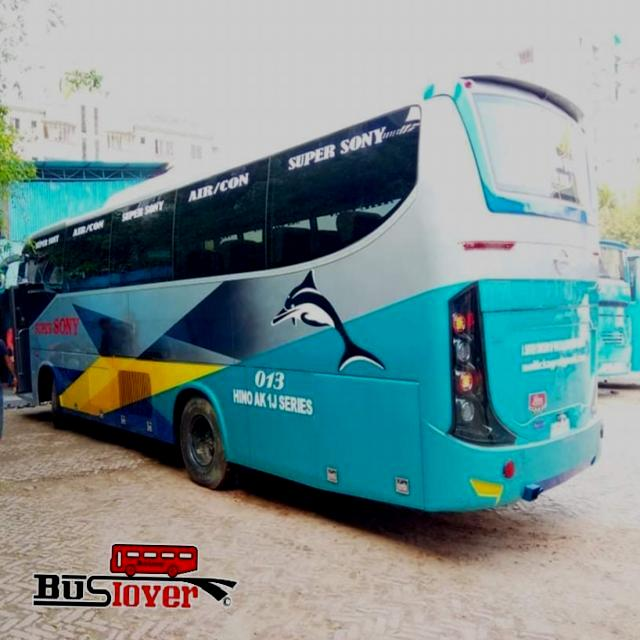bus: (1, 69, 605, 513)
